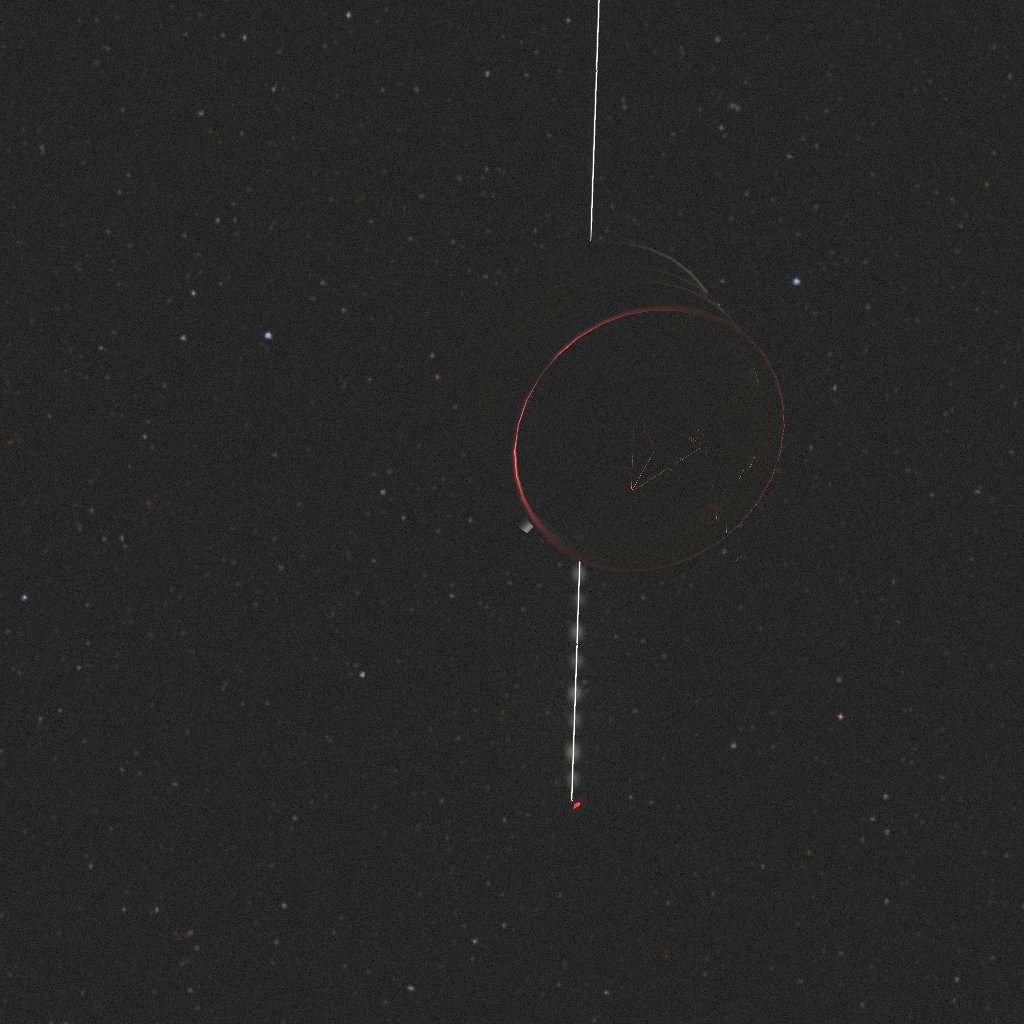double_star: (457, 0, 784, 812)
